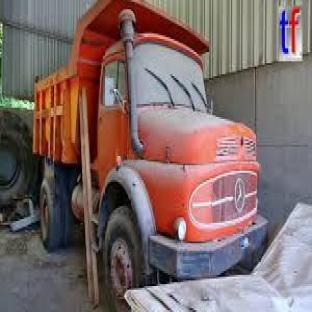Vehicle: (15, 33, 253, 270)
